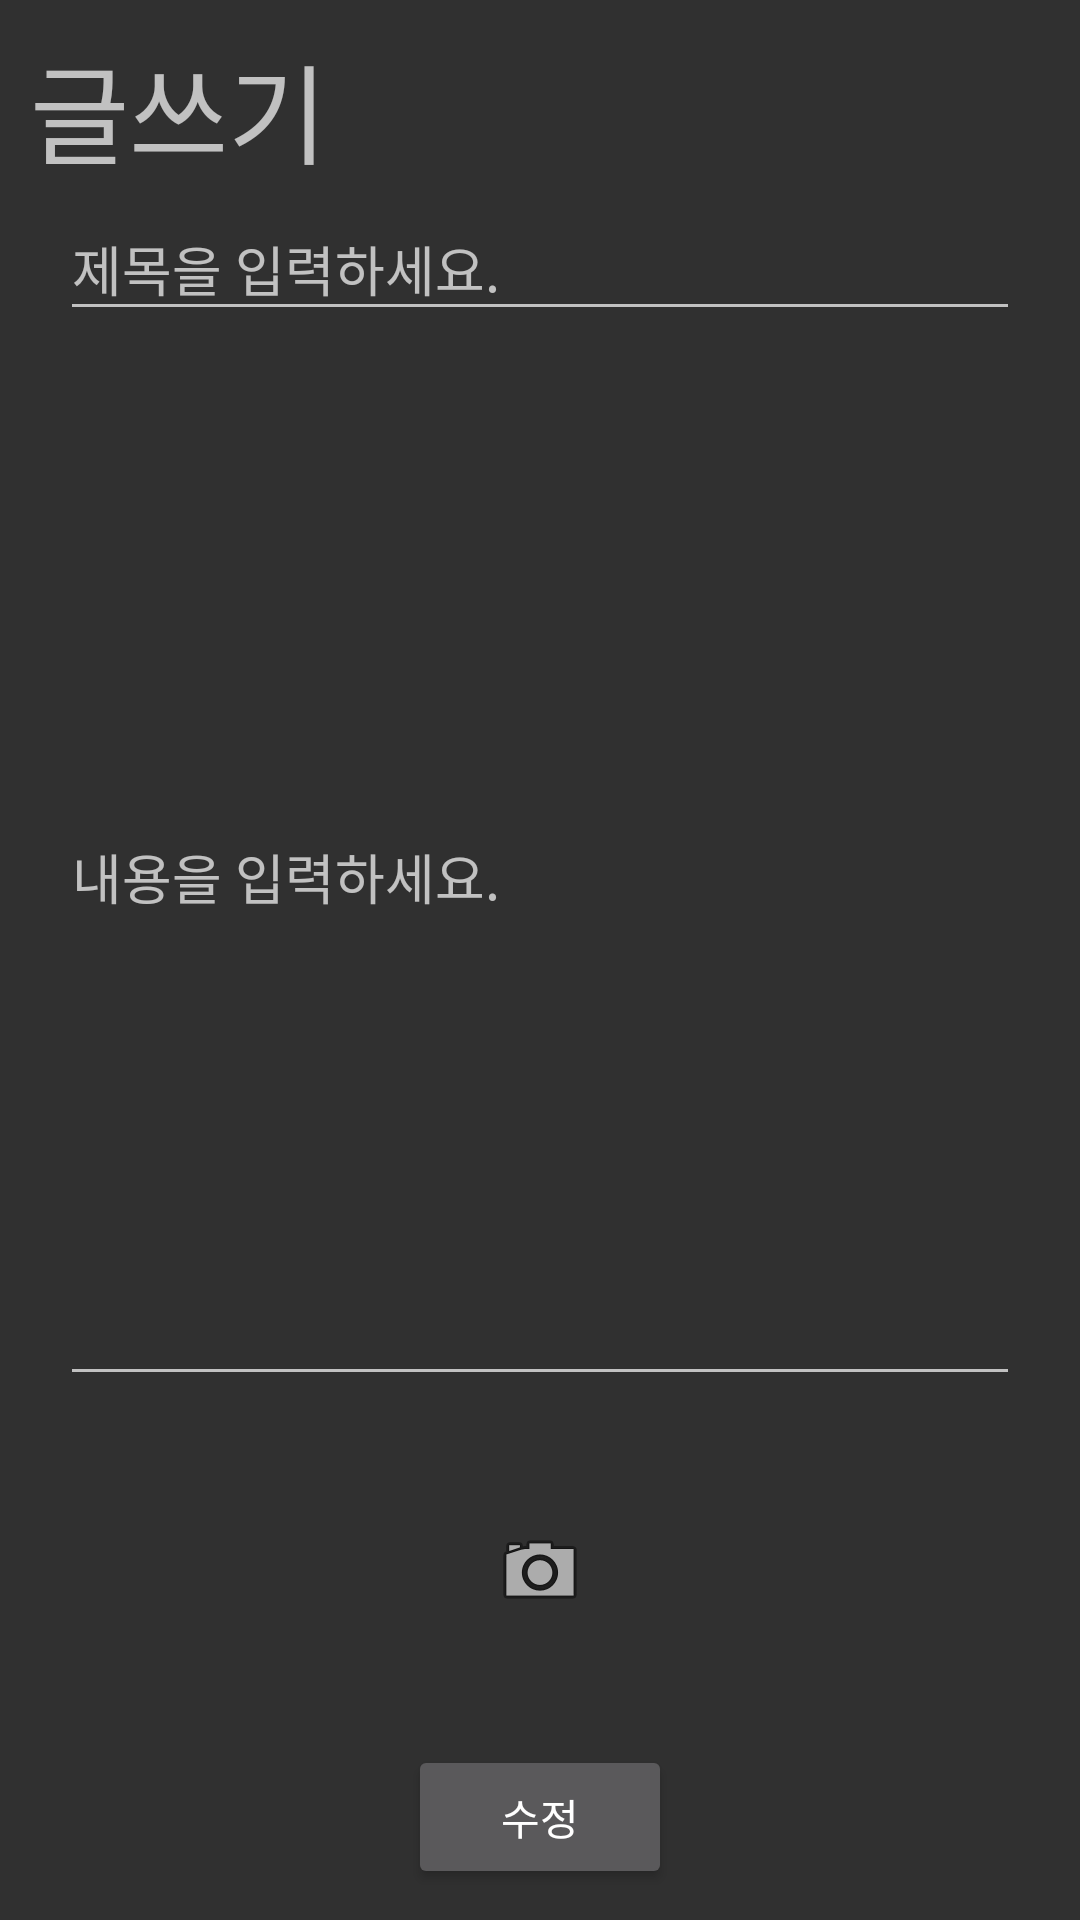

Named icons in this screenshot (1080x1920) and their bounding boxes, (x1, y1, x2, y2):
camera: (505, 1542, 575, 1597)
